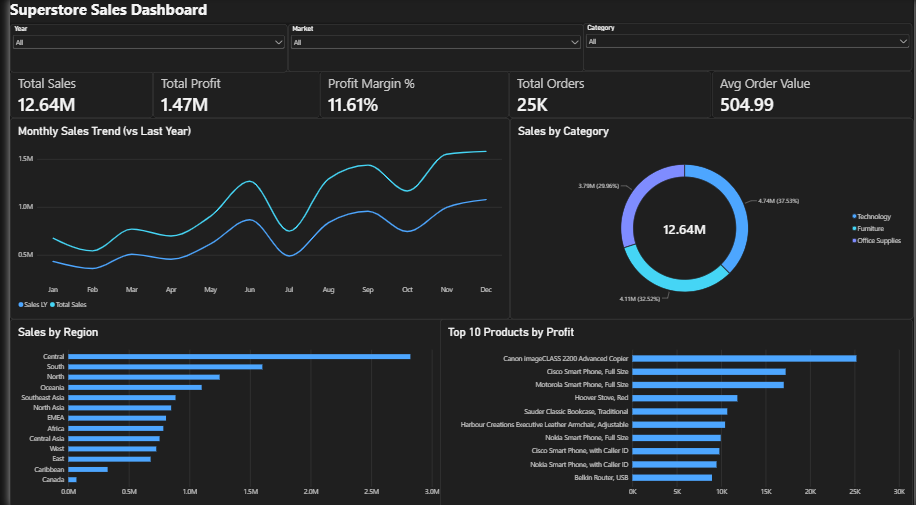

Layout of this report page (visuals, bound fields, positions):
{"tool":"powerbi","page":{"name":"Page 1","canvas":[1920,1080],"ordinal":0},"visuals":[{"type":"cardVisual","fields":{"Data":["Superstore.Total Sales"]},"box":[0,152.4,304.8,100],"z":0},{"type":"cardVisual","fields":{"Data":["Superstore.Total Orders"]},"box":[1061.9,152.4,431,100],"z":1000},{"type":"cardVisual","fields":{"Data":["Superstore.Avg Order Value"]},"box":[1492.9,152.4,426.2,100],"z":2000},{"type":"cardVisual","fields":{"Data":["Superstore.Profit Margin %"]},"box":[659.5,152.4,402.4,100],"z":3000},{"type":"cardVisual","fields":{"Data":["Superstore.Total Profit"]},"box":[304.8,152.4,354.8,100],"z":4000},{"type":"lineChart","title":"Monthly Sales Trend (vs Last Year)","fields":{"Category":["Dates.Month Name"],"Y":["Superstore.Sales LY","Superstore.Total Sales"]},"box":[0,252.5,1062.5,427.5],"z":5000},{"type":"donutChart","title":"Sales by Category","fields":{"Category":["Superstore.Category"],"Y":["Superstore.Total Sales"]},"box":[1062.5,252.5,857.5,427.5],"z":6000},{"type":"clusteredBarChart","title":"Sales by Region","fields":{"Category":["Superstore.Region"],"Y":["Superstore.Total Sales"]},"box":[0,680,930,400],"z":7000},{"type":"clusteredBarChart","title":"Top 10 Products by Profit","fields":{"Category":["Superstore.Product Name"],"Y":["Superstore.Total Profit"]},"box":[915,680,1005,400],"z":8000},{"type":"slicer","fields":{"Values":["Dates.Year"]},"box":[0,52.4,590,102.5],"z":9000},{"type":"slicer","fields":{"Values":["Superstore.Market"]},"box":[590.5,52.4,628.6,102.4],"z":10000},{"type":"slicer","fields":{"Values":["Superstore.Category"]},"box":[1219,50,700,102.4],"z":11000},{"type":"textbox","box":[0,0,1919,50],"z":11001}]}

Visuals, with their boxes in screenshot pixels (x1, y1, x2, y2), scaled from the page's 1920x1080 canvas onto the 916x505 screenshot:
cardVisual - Superstore.Total Sales: l=0, t=71, r=145, b=118
cardVisual - Superstore.Total Orders: l=507, t=71, r=712, b=118
cardVisual - Superstore.Avg Order Value: l=712, t=71, r=915, b=118
cardVisual - Superstore.Profit Margin %: l=315, t=71, r=507, b=118
cardVisual - Superstore.Total Profit: l=145, t=71, r=315, b=118
"Monthly Sales Trend (vs Last Year)" lineChart: l=0, t=118, r=507, b=318
"Sales by Category" donutChart: l=507, t=118, r=915, b=318
"Sales by Region" clusteredBarChart: l=0, t=318, r=444, b=504
"Top 10 Products by Profit" clusteredBarChart: l=437, t=318, r=915, b=504
slicer - Dates.Year: l=0, t=25, r=281, b=72
slicer - Superstore.Market: l=282, t=25, r=582, b=72
slicer - Superstore.Category: l=582, t=23, r=915, b=71
textbox: l=0, t=0, r=915, b=23
